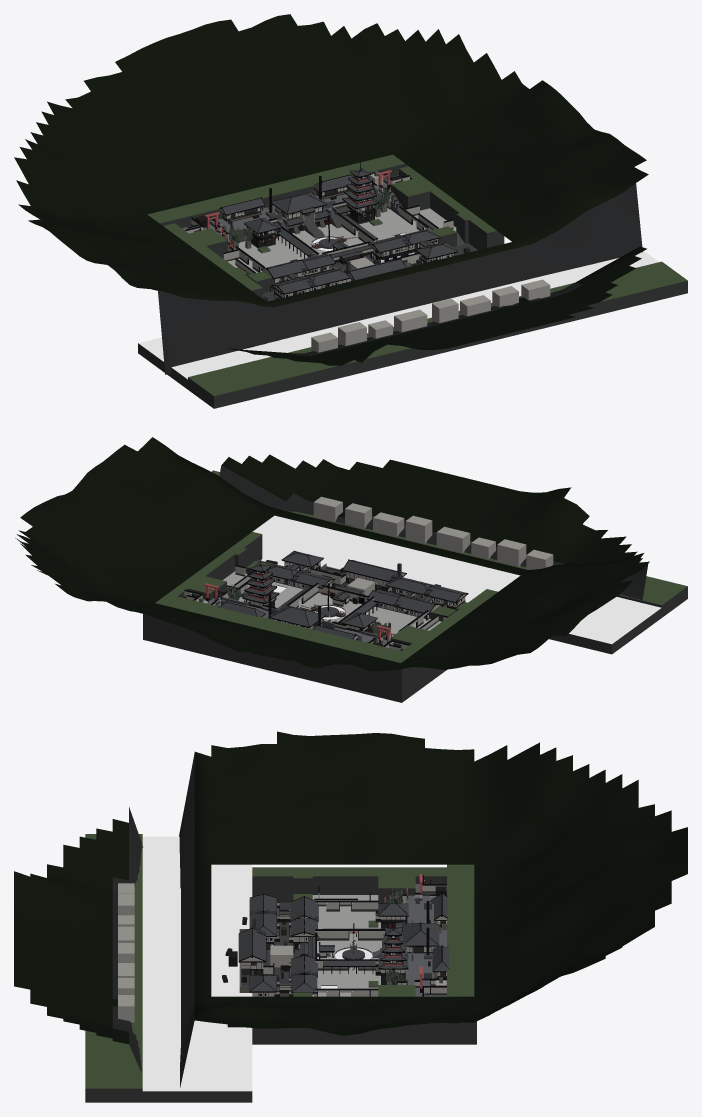
File: katana-art.glb
3 renders of one model, top to bottom at view 1: azimuth 30°, elevation 25°; view 2: azimuth 150°, elevation 25°; view 3: azimuth 270°, elevation 25°, orthographic. The views are drawn at different scales.
Parts seen in each view (by area): view 1: kva_bd, kva_c22, kva_c20, kva_c02, kva_c21, kva_c31, kva_c32, kva_c11, kva_c10, kva_c12, kva_c01, kva_c00 (+3 smaller); view 2: kva_bd, kva_c22, kva_c20, kva_c02, kva_c12, kva_c21, kva_c01, kva_c31, kva_c11, kva_c32, kva_c10, kva_c00 (+4 smaller); view 3: kva_bd, kva_c22, kva_c20, kva_c01, kva_c32, kva_c31, kva_c11, kva_c21, kva_c02, kva_c12, kva_c30, kva_c10 (+3 smaller).
Boxes of the visible parts, box(x1,y1,x2,y2) form: kva_bd: box(14, 14, 648, 374); kva_c22: box(138, 238, 687, 408); kva_c20: box(147, 154, 403, 230); kva_c02: box(138, 270, 366, 408); kva_c21: box(309, 173, 418, 269); kva_c31: box(375, 166, 496, 243); kva_c32: box(420, 219, 672, 306); kva_c11: box(245, 223, 352, 271); kva_c10: box(159, 185, 314, 248); kva_c12: box(291, 260, 432, 338); kva_c01: box(163, 223, 290, 290); kva_c00: box(160, 207, 252, 251); kva_bd: box(15, 437, 649, 671); kva_c22: box(211, 470, 687, 644); kva_c20: box(143, 563, 411, 702); kva_c02: box(421, 539, 687, 654); kva_c12: box(364, 526, 497, 599); kva_c21: box(240, 563, 368, 619); kva_c01: box(390, 589, 497, 692); kva_c31: box(168, 532, 289, 601); kva_c11: box(322, 589, 426, 633); kva_c32: box(244, 496, 371, 571); kva_c10: box(257, 605, 412, 654); kva_c00: box(351, 625, 428, 702); kva_bd: box(14, 731, 687, 1087); kva_c22: box(85, 834, 296, 1091); kva_c20: box(384, 864, 474, 996); kva_c01: box(252, 867, 446, 920); kva_c32: box(85, 977, 296, 1102); kva_c31: box(252, 978, 446, 1044); kva_c11: box(290, 903, 387, 955); kva_c21: box(291, 927, 387, 996); kva_c02: box(118, 876, 296, 940); kva_c12: box(118, 909, 297, 955); kva_c30: box(378, 965, 476, 1044); kva_c10: box(385, 864, 448, 947).
Size of the model in its own units: 246 by 52.99 by 246.
